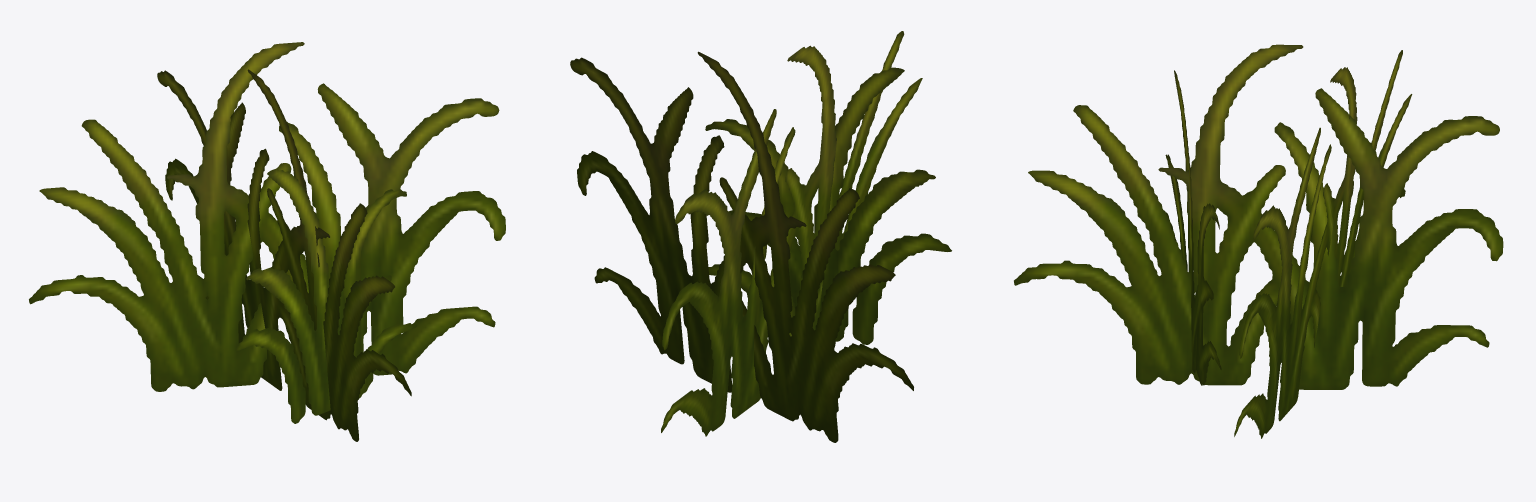
Rendered from grass_short01.FBX.
3 views of the same model, side by side, from view 1: azimuth 30°, elevation 25°; view 2: azimuth 150°, elevation 25°; view 3: azimuth 270°, elevation 25° (orthographic). The views are drawn at different scales.
Visible parts, largest first — view 1: grass_small_a002; view 2: grass_small_a002; view 3: grass_small_a002.
Boxes of the visible parts, box(x1,y1,x2,y2) form: grass_small_a002: box(29, 42, 505, 441); grass_small_a002: box(570, 31, 951, 442); grass_small_a002: box(1014, 44, 1503, 438).
Size of the model in its own units: 0.5036 by 0.409 by 0.5296.
